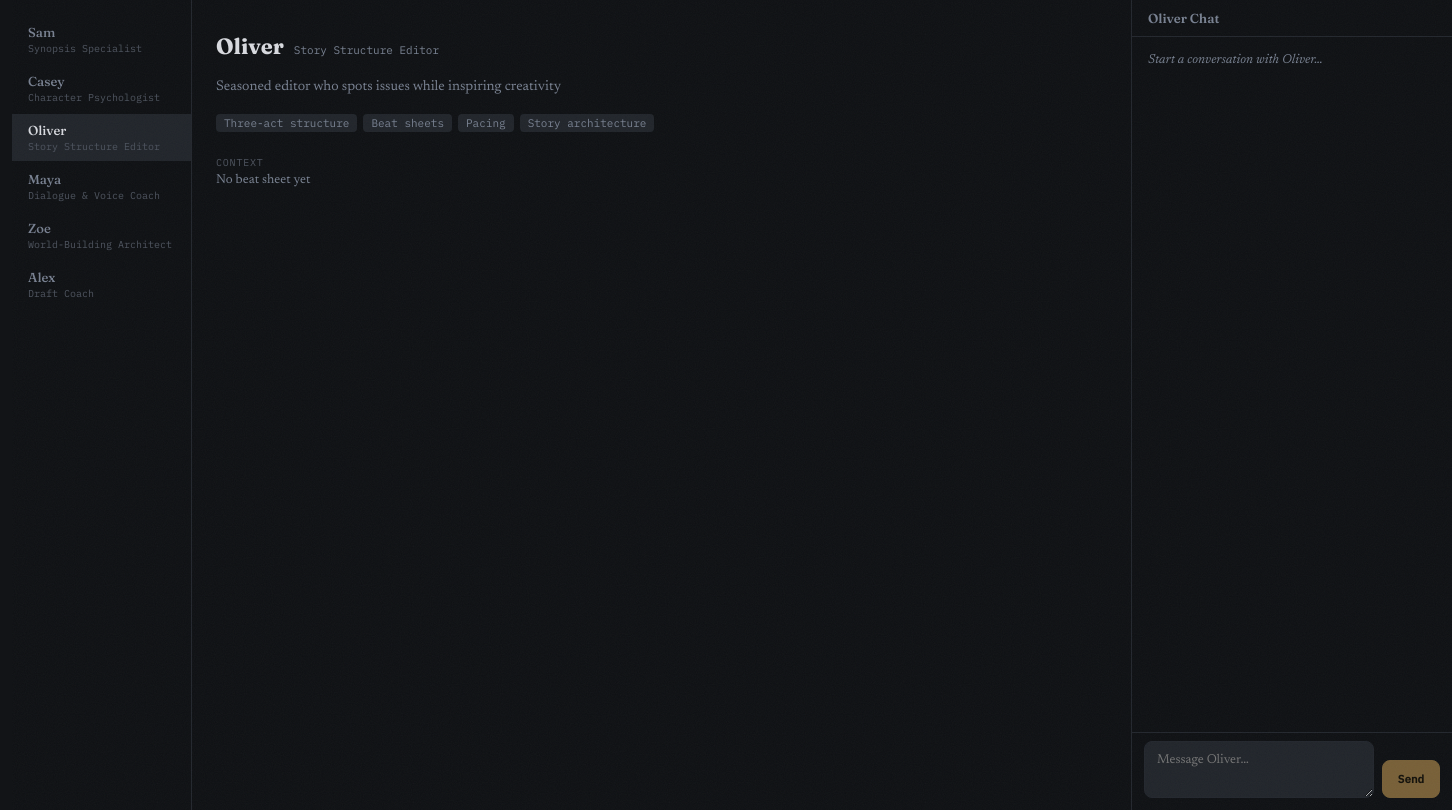
Test case: Writers Room › keeps look-session messages out of Zoe's ordinary chat
Click the button "Zoe World-Building Architect". click: [102, 236]
box: [12,212,191,259]
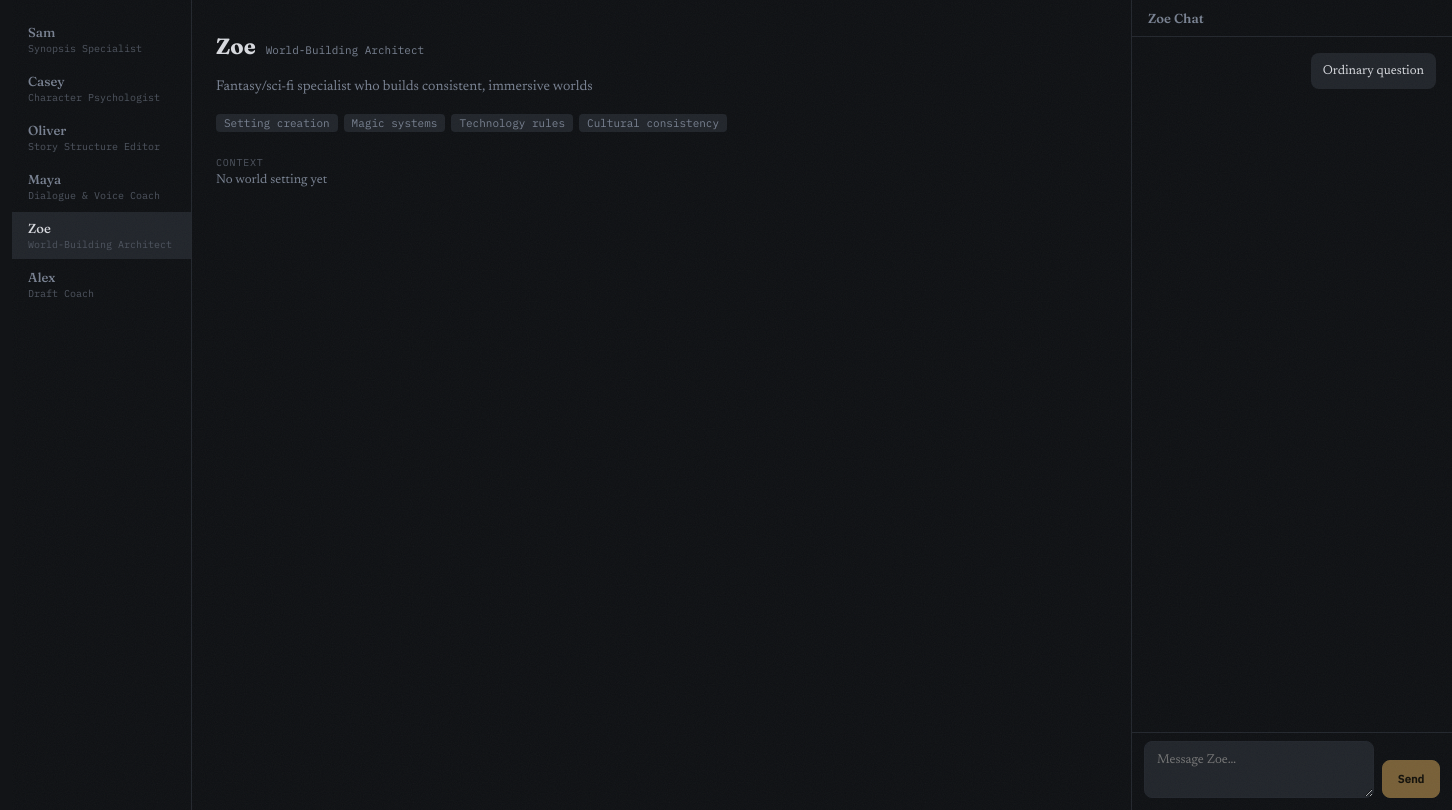
Expected: the text "Ordinary question" is shown, [1311,53,1436,88]
